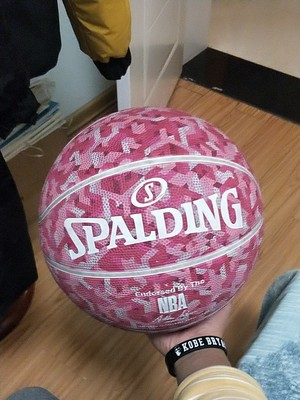ball: (37, 105, 265, 334)
